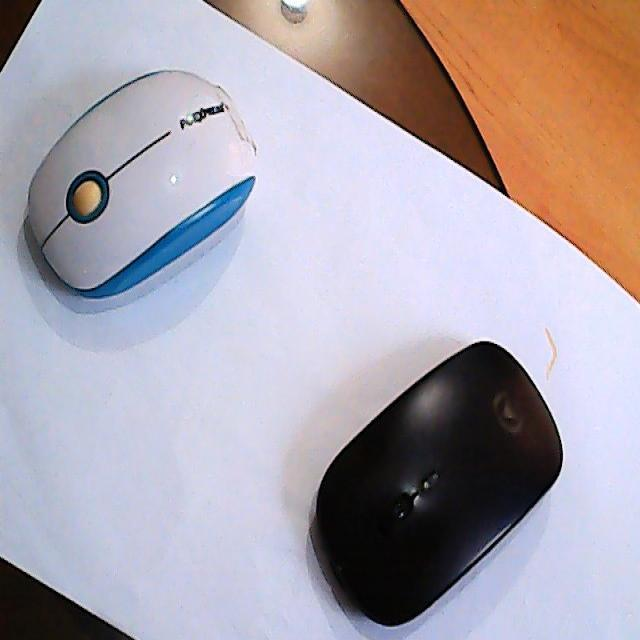Mouse: (316, 336, 567, 627), (26, 65, 260, 302)
